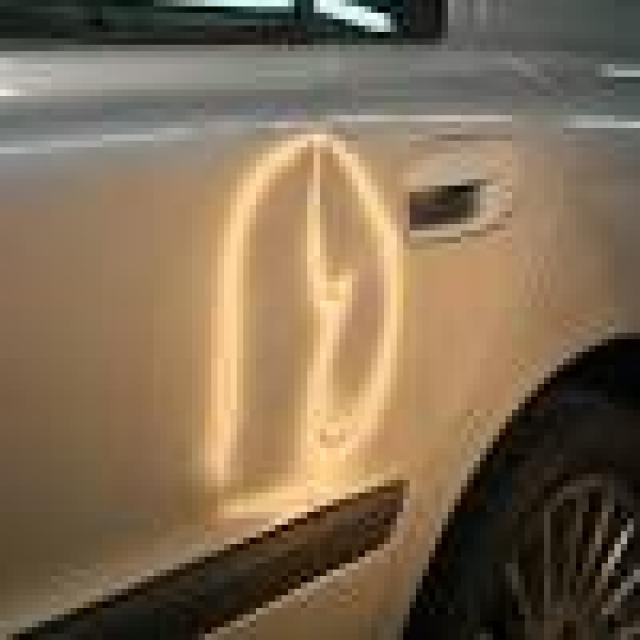minor: (246, 74, 414, 509)
